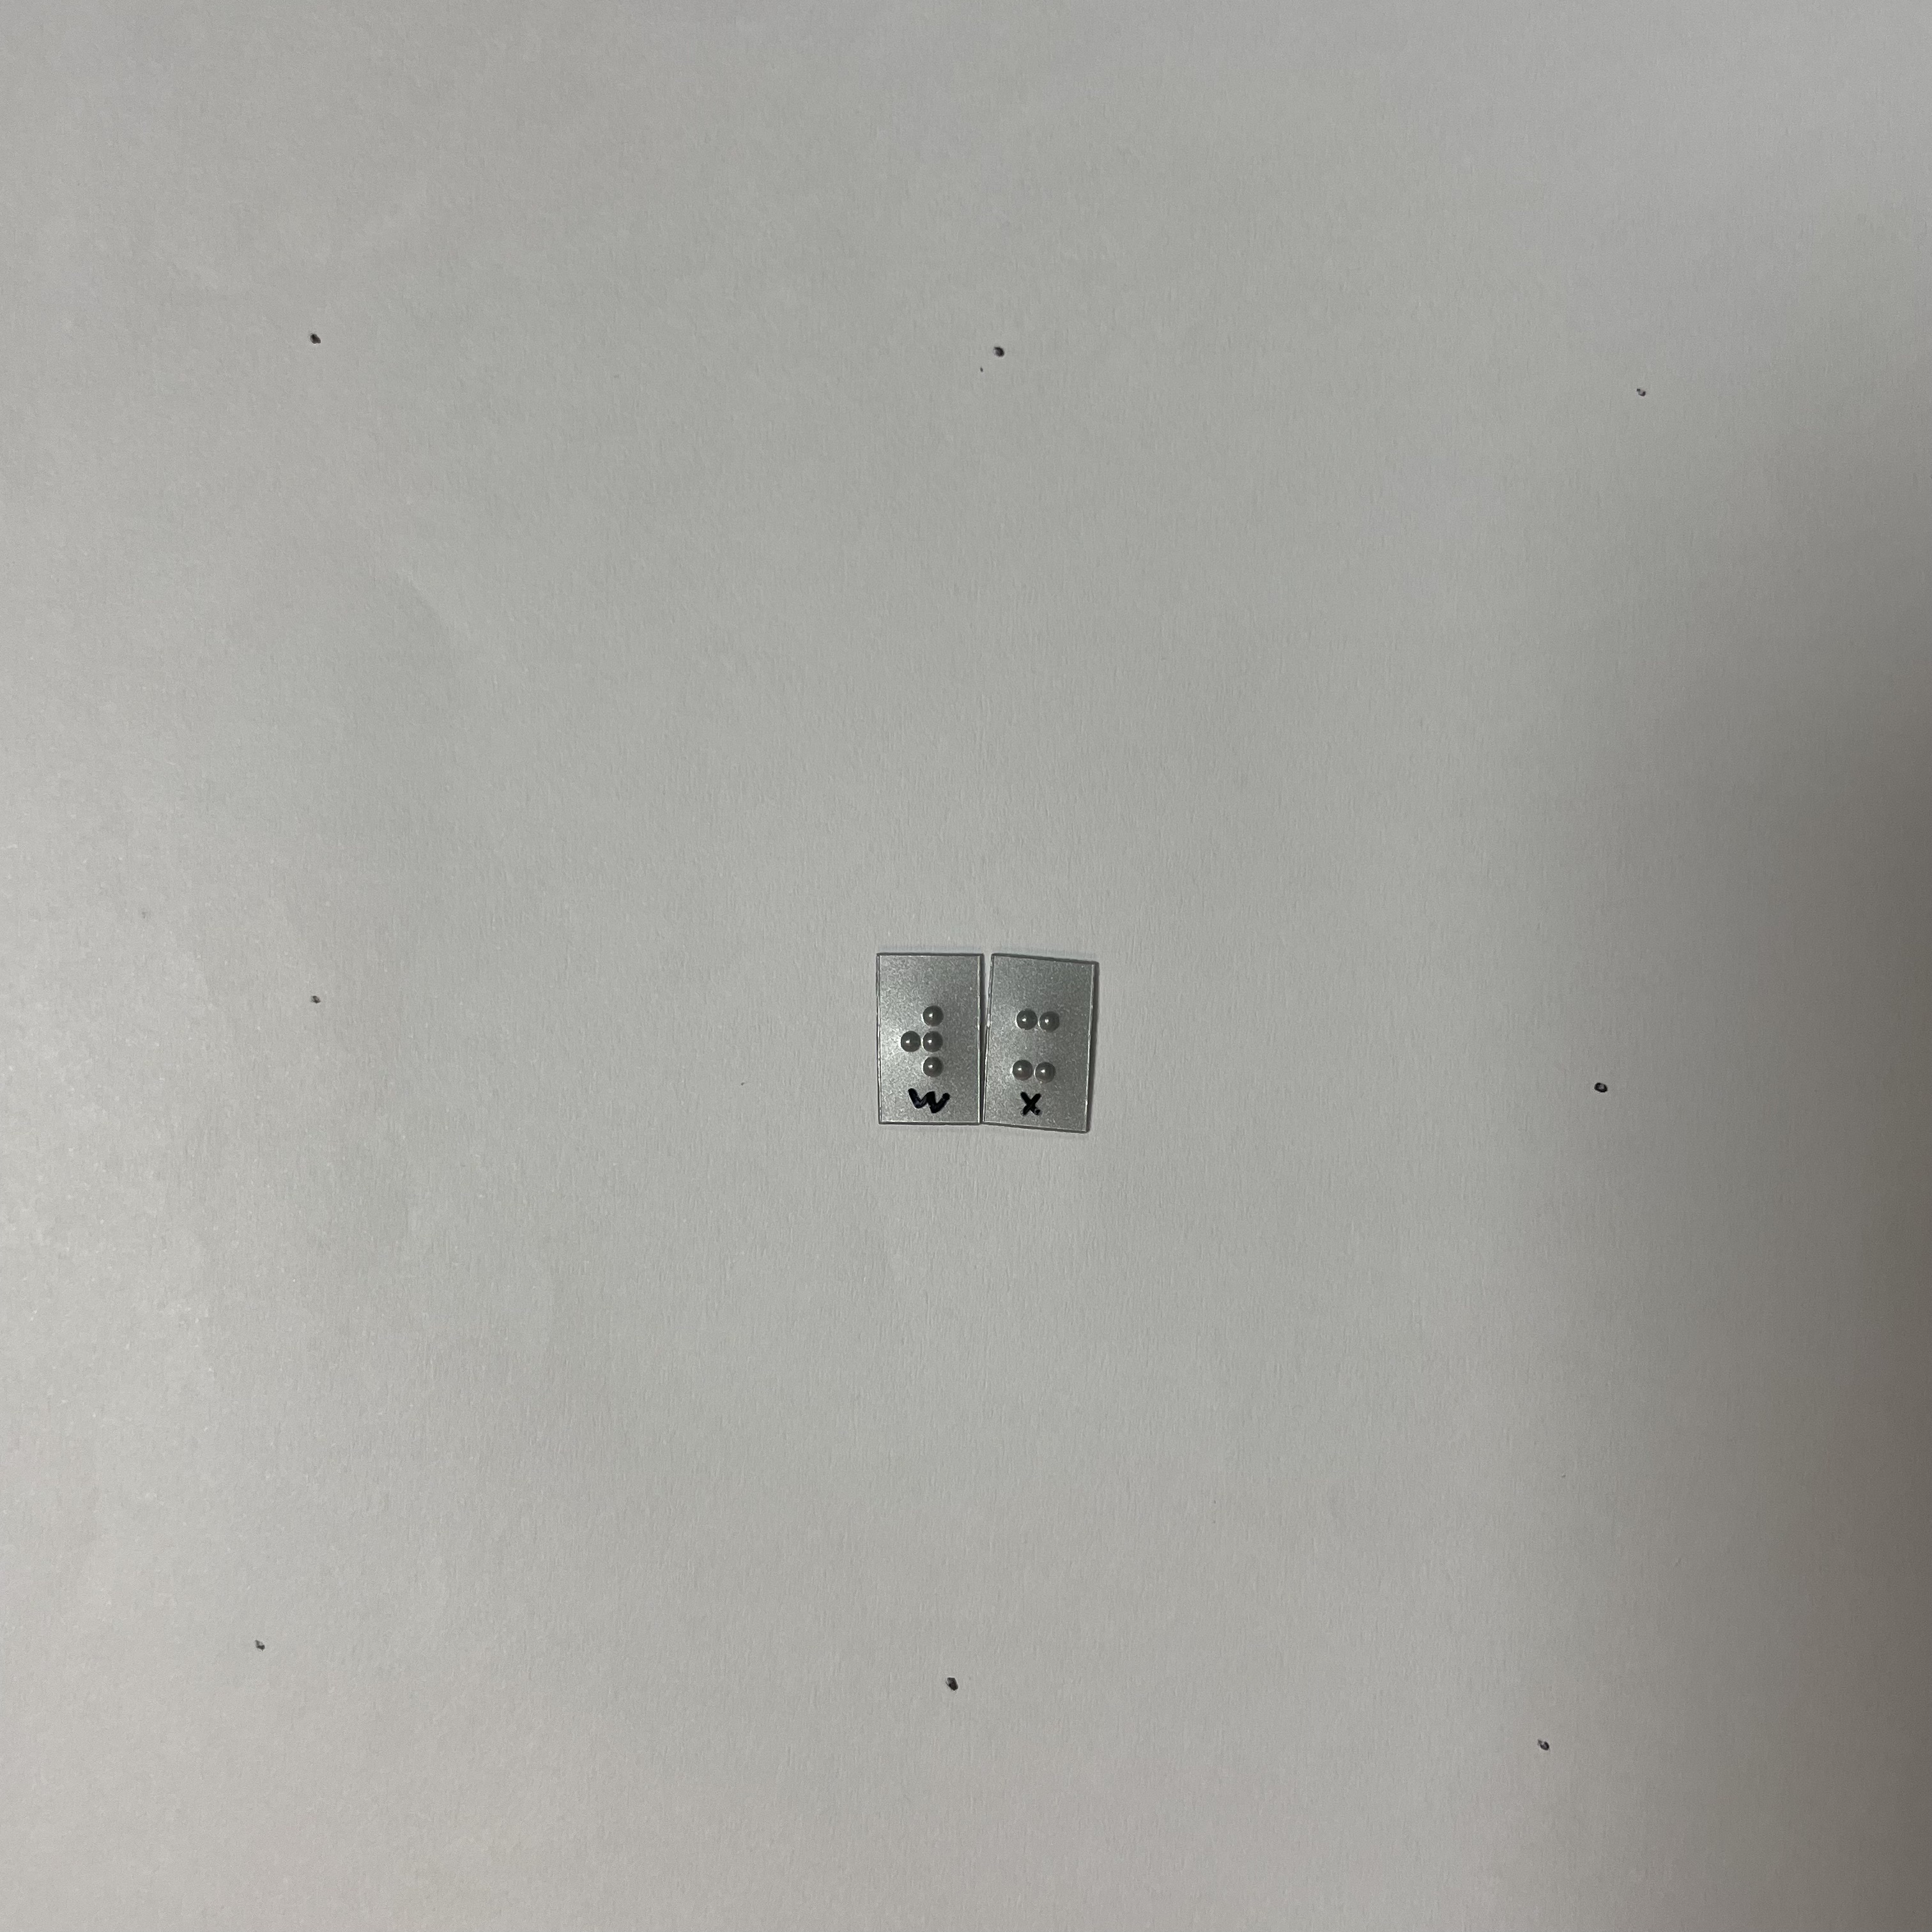w: (893, 997, 954, 1089)
x: (1006, 997, 1068, 1091)
